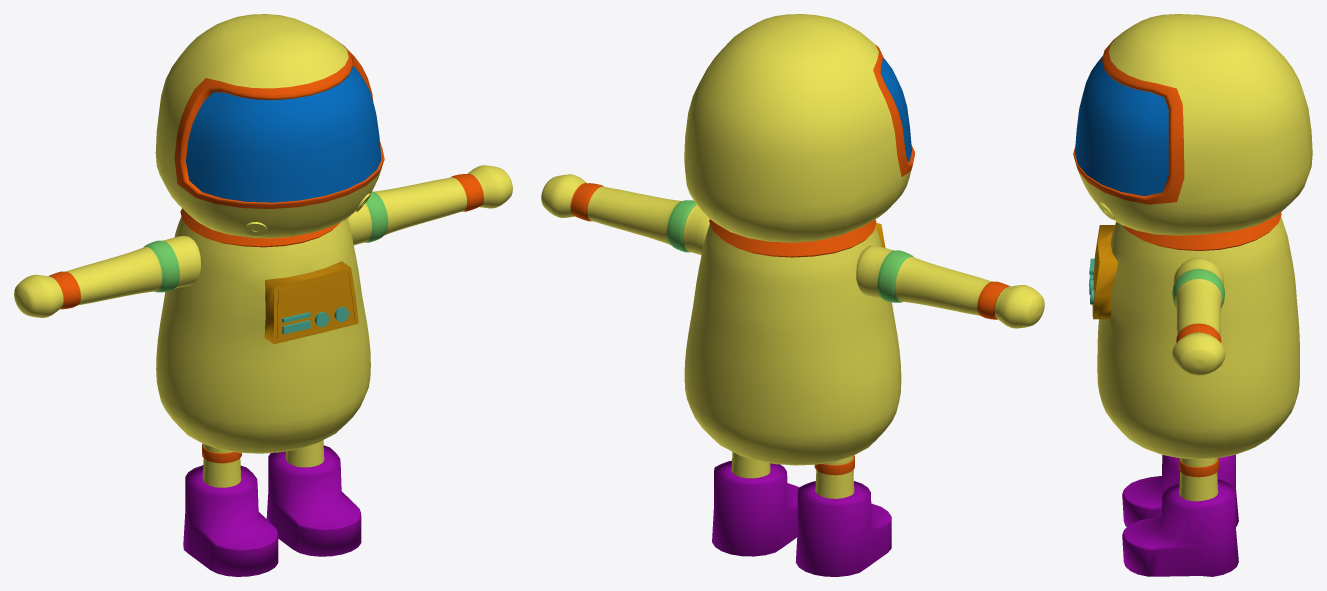
File: Gus_v3.fbx
3 views of the same model, side by side, from view 1: azimuth 30°, elevation 25°; view 2: azimuth 150°, elevation 25°; view 3: azimuth 270°, elevation 25° (orthographic).
Visible parts, largest first — view 1: polySurface14; view 2: polySurface14; view 3: polySurface14.
Part boxes in pixels (x1=…): polySurface14: x1=14, y1=14, x2=512, y2=576; polySurface14: x1=541, y1=14, x2=1044, y2=576; polySurface14: x1=1073, y1=14, x2=1312, y2=576.
Bounding box in the file's own units: 3.73 × 3.74 × 1.57.
